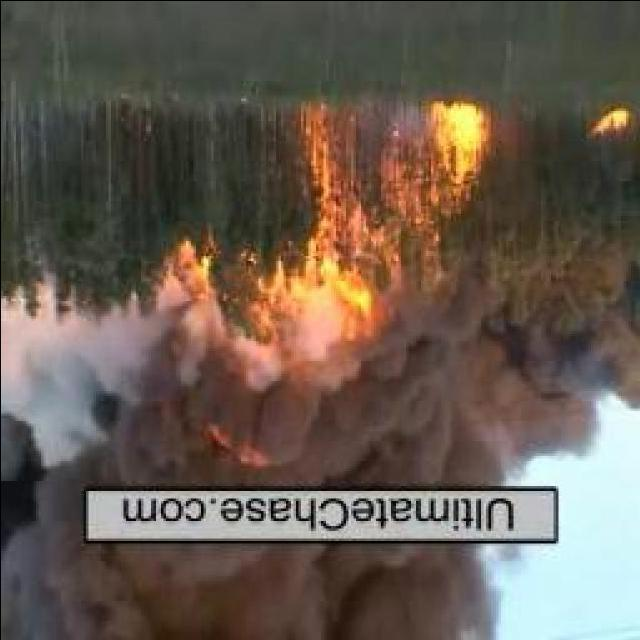Fire: (292, 98, 373, 326), (424, 94, 494, 206), (163, 252, 230, 348), (588, 105, 633, 140)
